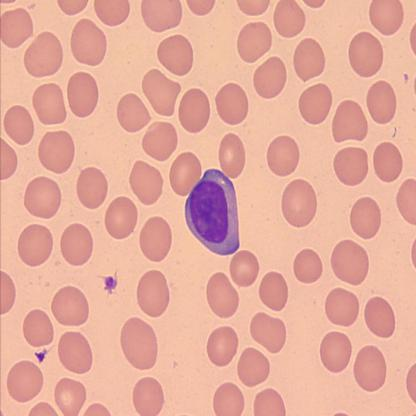Atypical lymphocyte: (185, 169, 242, 254)
